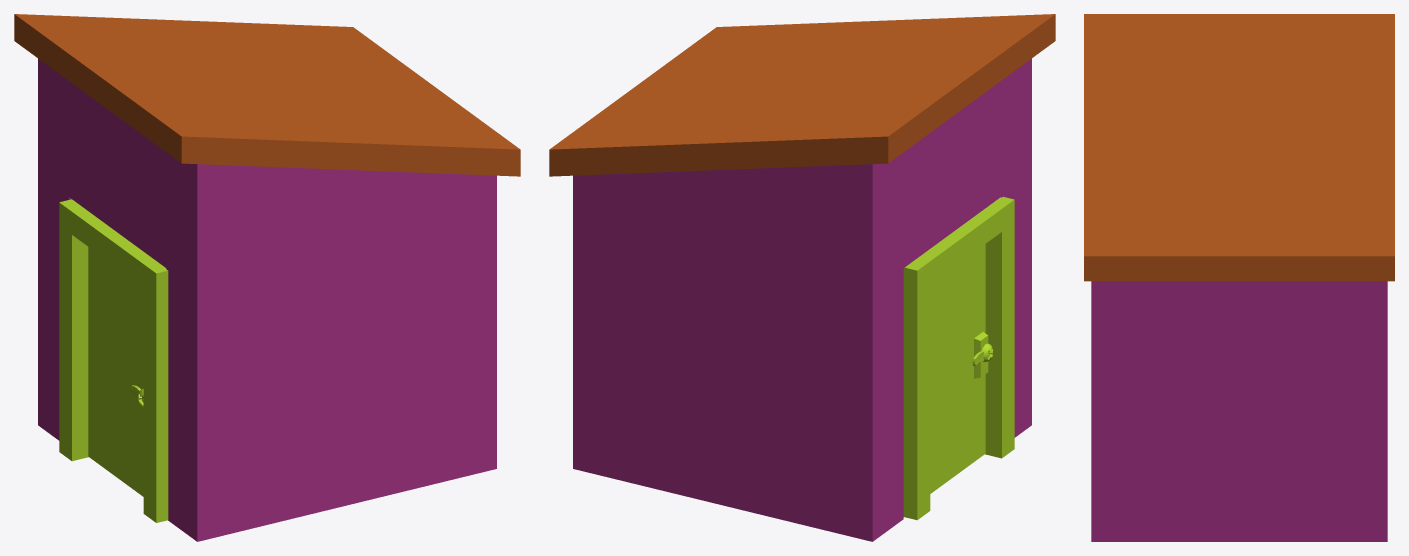
The model's file is Ev_company_Rooftop_door.fbx.
3 renders of one model, left to right at view 1: azimuth 30°, elevation 25°; view 2: azimuth 150°, elevation 25°; view 3: azimuth 270°, elevation 25°, orthographic. The views are drawn at different scales.
Visible parts, largest first — view 1: Ev_company_rooftop_door, Ev_company_Rooftop_stair_door; view 2: Ev_company_rooftop_door, Ev_company_Rooftop_stair_door; view 3: Ev_company_rooftop_door.
Boxes of the visible parts, x1,y1,x2,y2 form: Ev_company_rooftop_door: (14,14,520,541); Ev_company_Rooftop_stair_door: (88,247,143,496); Ev_company_rooftop_door: (549,14,1055,541); Ev_company_Rooftop_stair_door: (930,244,993,493); Ev_company_rooftop_door: (1084,14,1394,541).
Size of the model in its own units: 191 by 163 by 223.
